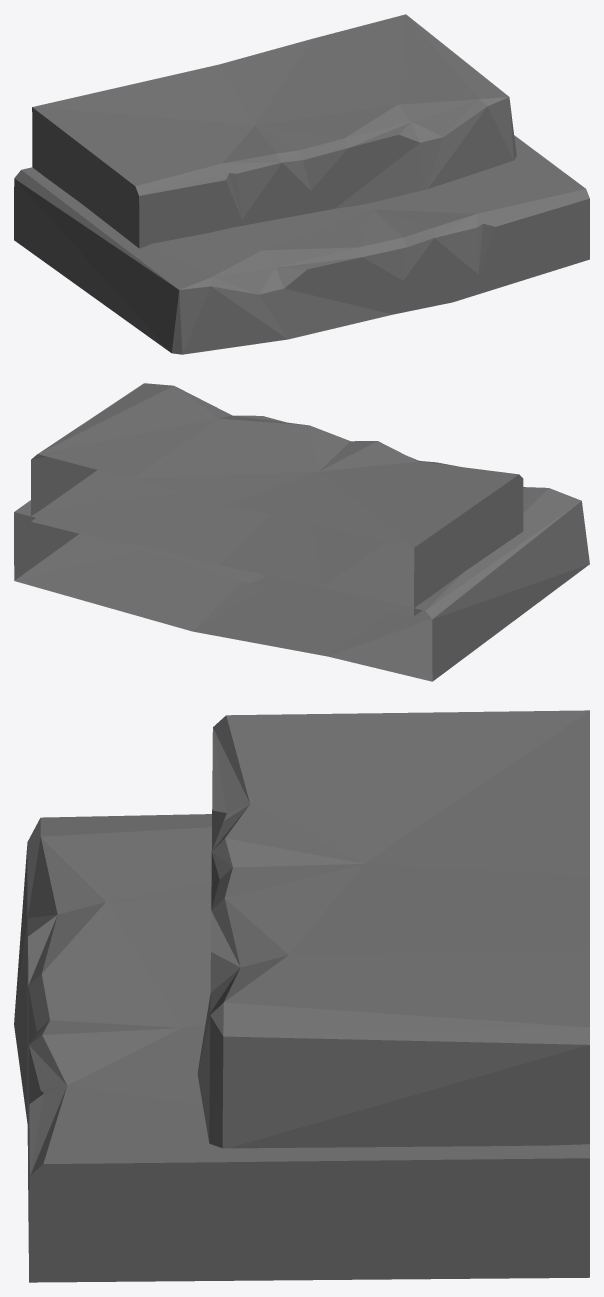
File: foundation_010.glb
The picture shows the model from 3 angles, top to bottom: view 1: azimuth 30°, elevation 25°; view 2: azimuth 150°, elevation 25°; view 3: azimuth 270°, elevation 25°; orthographic projection. The views are drawn at different scales.
Parts seen in each view (by area): view 1: foundation_010; view 2: foundation_010; view 3: foundation_010.
Part boxes in pixels (x1,y1,x2,y2): foundation_010: (14,14,589,354); foundation_010: (14,383,589,681); foundation_010: (14,710,589,1282).
Size of the model in its own units: 4.68 by 1.54 by 3.2.
1 material, 1 textured.
